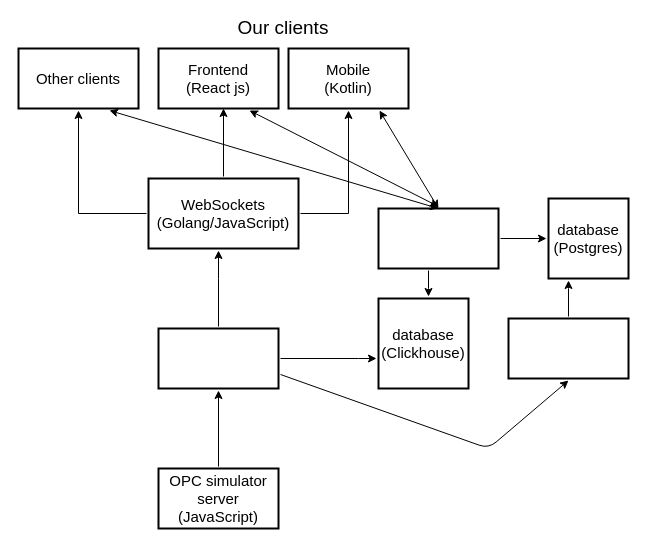
Image size: 646x547. Some labels were removed from this diagram. Each missing label, with the centre of its shape:
"Checkerr (Golang)" goes at point 568,348.
"Pusher (Golang)" goes at point 218,358.
"REST API (Golang)" goes at point 438,238.
